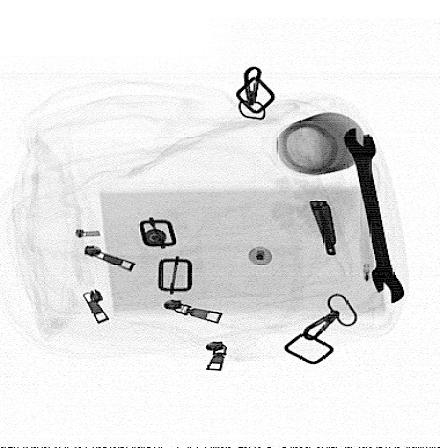Wrench: (341, 127, 404, 305)
